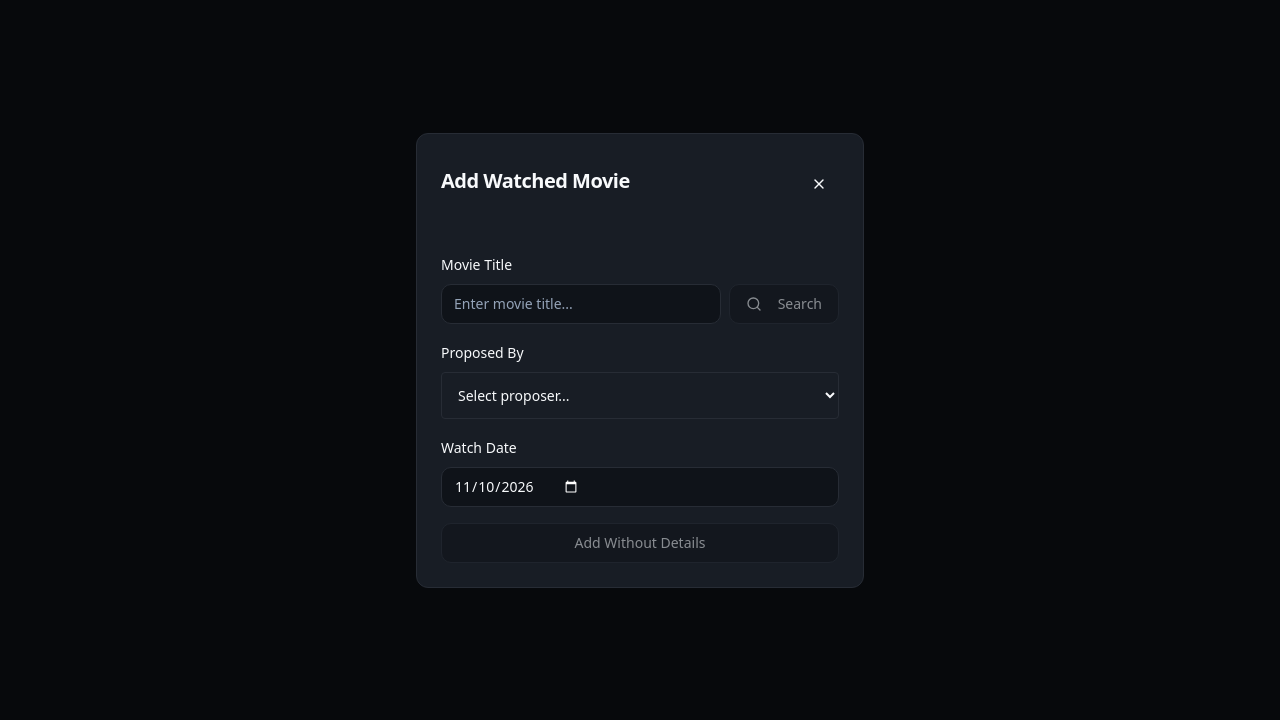
it: AddMovieDialog › searches TMDB, renders multiple options, and adds selected movie with details
Later steps or results of the test are not shown.
Type "Alien" into the field with placeholder "Enter movie title..." at (581, 304), box x1=441 y1=284 x2=721 y2=324
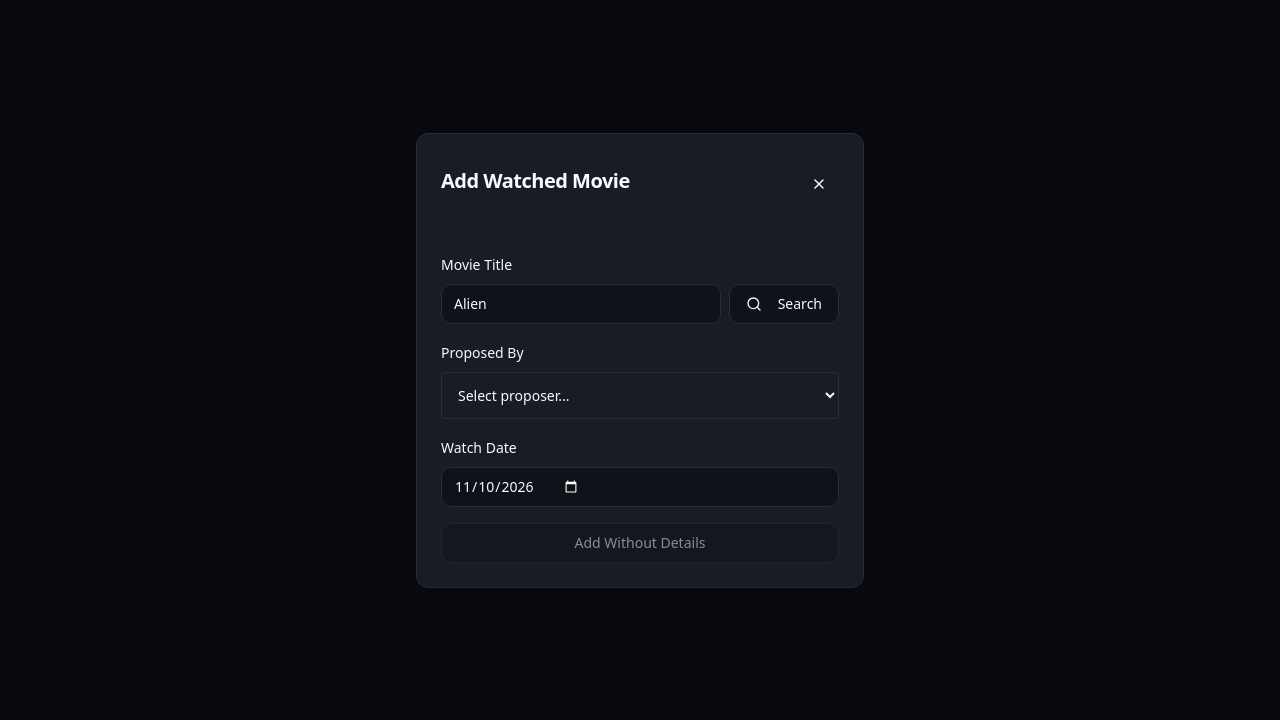
Click the button "Search" at (784, 304), box x1=729 y1=284 x2=839 y2=324
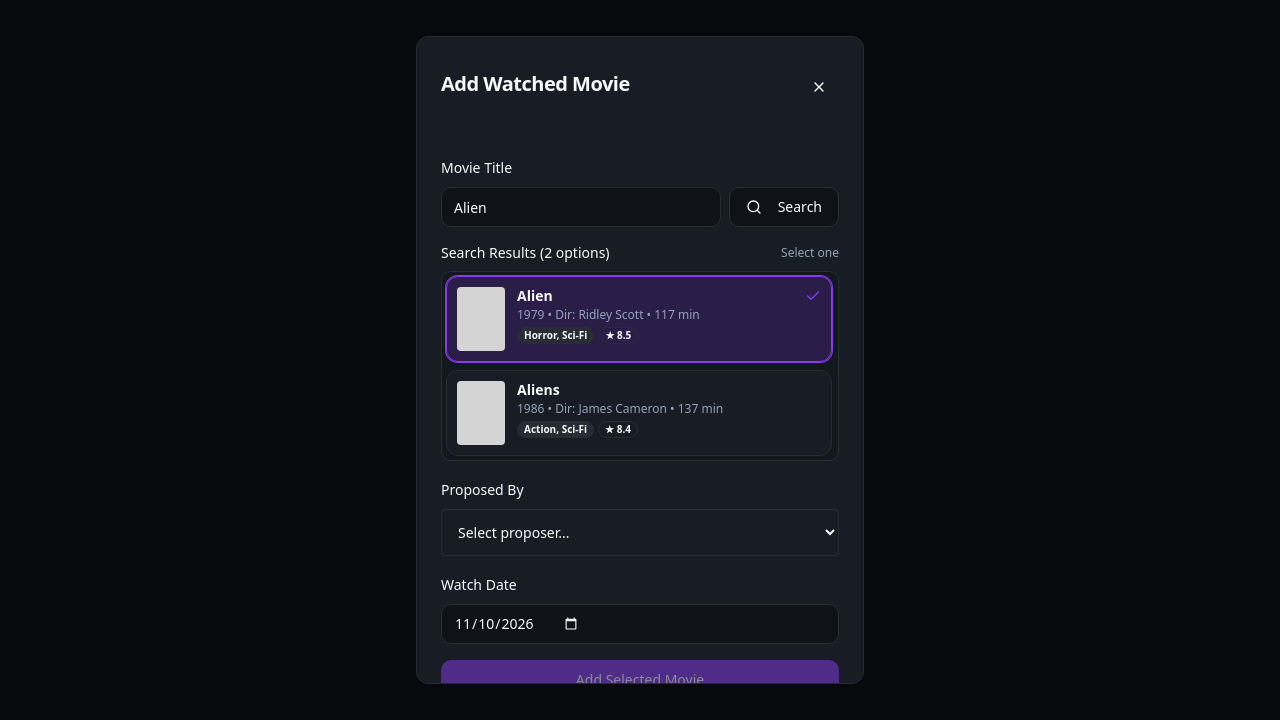
Expected: the text "Search Results (2 options)" is shown, x1=441 y1=243 x2=610 y2=263
Expected: the heading "Alien" is shown, x1=517 y1=287 x2=553 y2=304
Expected: the heading "Aliens" is shown, x1=517 y1=381 x2=560 y2=398
